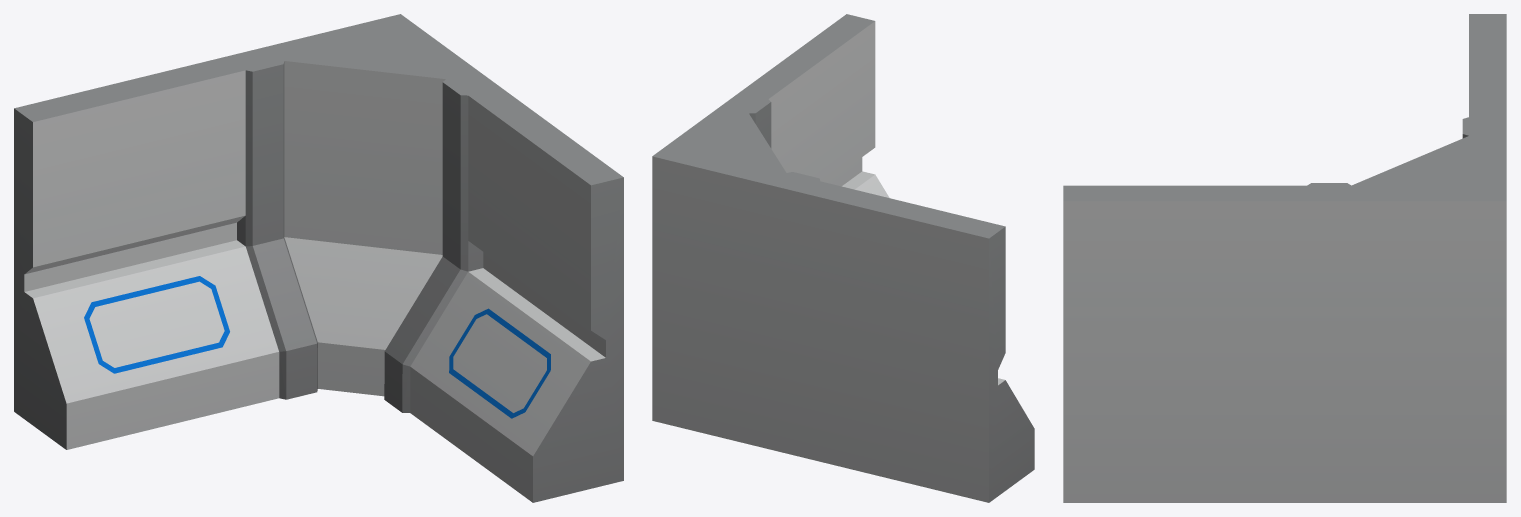
The model's file is Wall_type_A_028.fbx.
3 views of the same model, side by side, from view 1: azimuth 30°, elevation 25°; view 2: azimuth 150°, elevation 25°; view 3: azimuth 270°, elevation 25° (orthographic). The views are drawn at different scales.
Visible parts, largest first — view 1: Wall_type_A_028; view 2: Wall_type_A_028; view 3: Wall_type_A_028.
Part boxes in pixels (x1,y1,x2,y2): Wall_type_A_028: [14, 14, 623, 502]; Wall_type_A_028: [652, 14, 1034, 502]; Wall_type_A_028: [1063, 14, 1506, 502].
Bounding box in the file's own units: 200 × 200 × 150.
